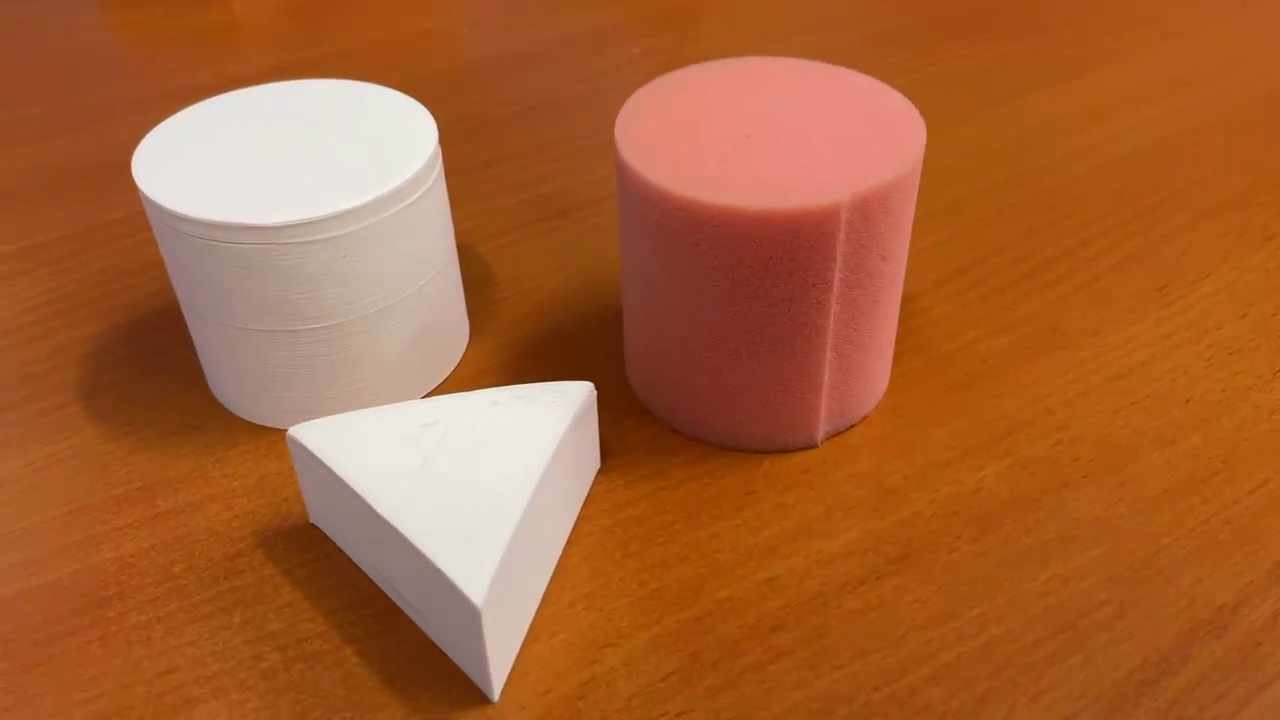Cylinder: (609, 45, 934, 459), (125, 70, 480, 434)
Triangle_short: (284, 371, 604, 707)
